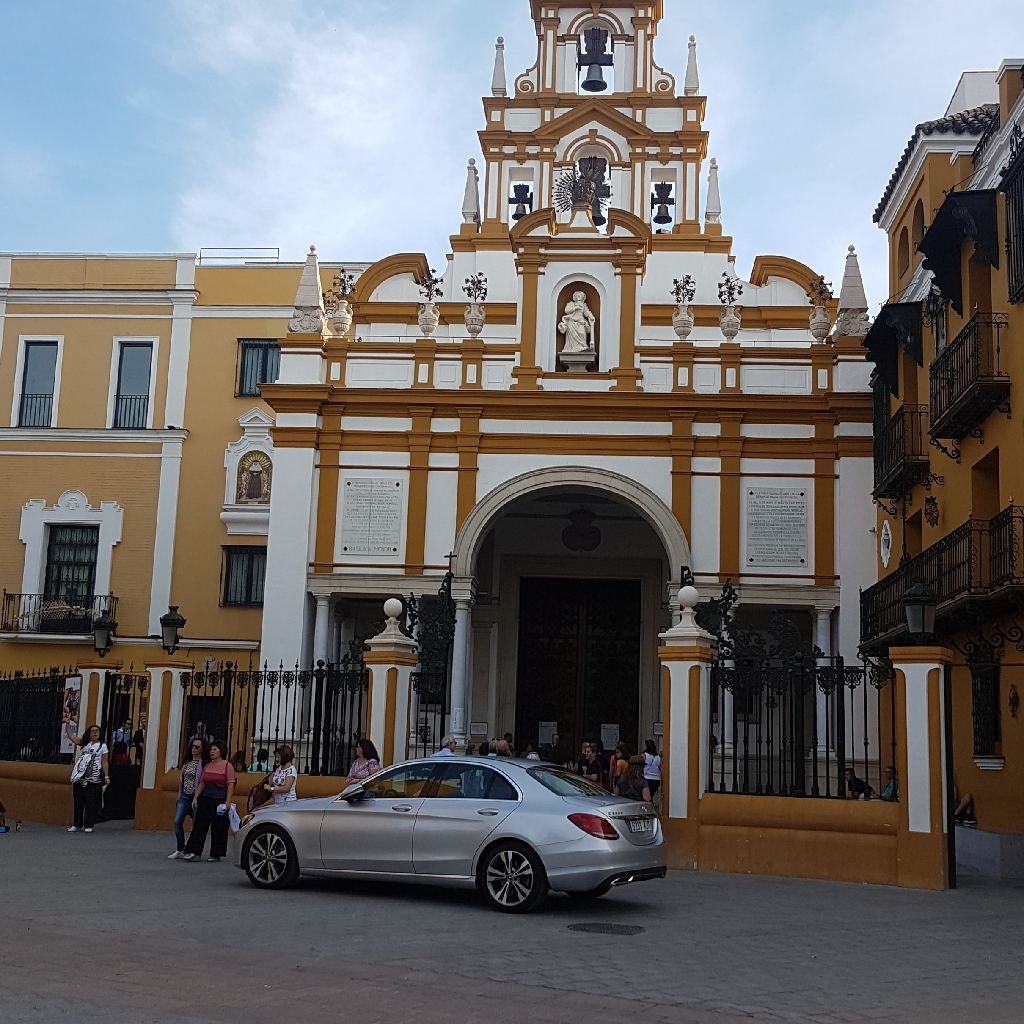arco-medio-punto: (465, 476, 677, 628)
fronton-partido: (506, 203, 654, 249), (529, 95, 656, 146)
